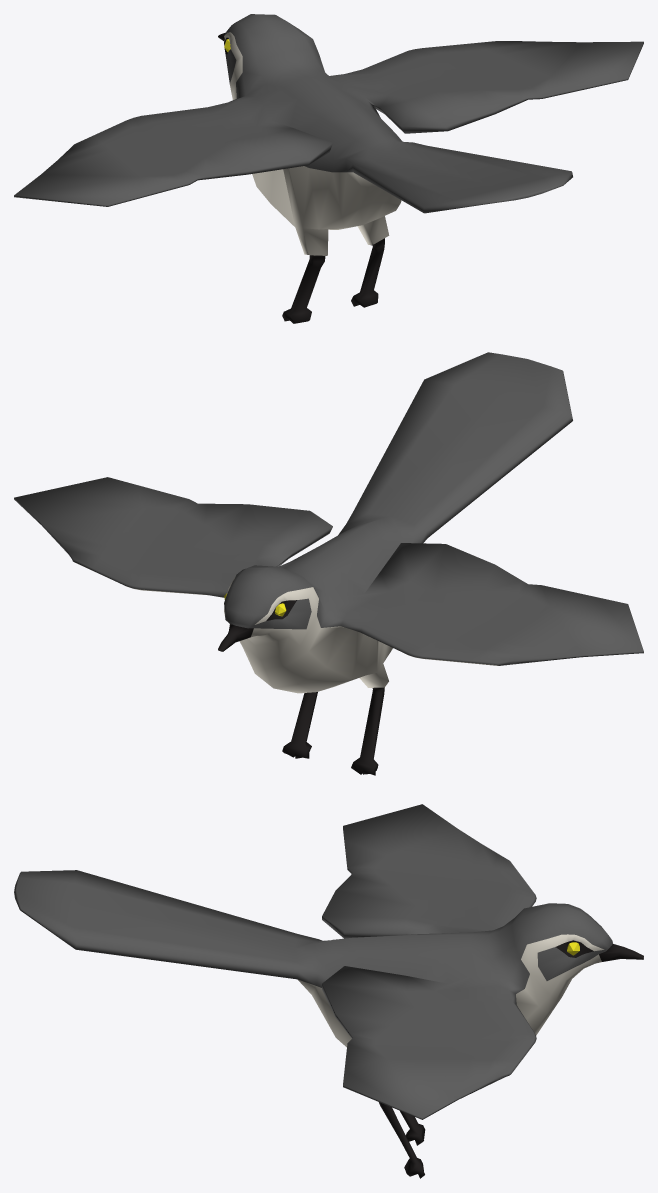
Rendered from mockingbird.fbx.
The picture shows the model from 3 angles, top to bottom: view 1: azimuth 30°, elevation 25°; view 2: azimuth 150°, elevation 25°; view 3: azimuth 270°, elevation 25°; orthographic projection. The views are drawn at different scales.
Visible parts, largest first — view 1: Mockingbird; view 2: Mockingbird; view 3: Mockingbird.
Part boxes in pixels (left/top/right/bottom): Mockingbird: left=14, top=14, right=643, bottom=323; Mockingbird: left=14, top=352, right=643, bottom=775; Mockingbird: left=14, top=804, right=643, bottom=1178.
Size of the model in its own units: 47.07 by 18.69 by 39.91.
